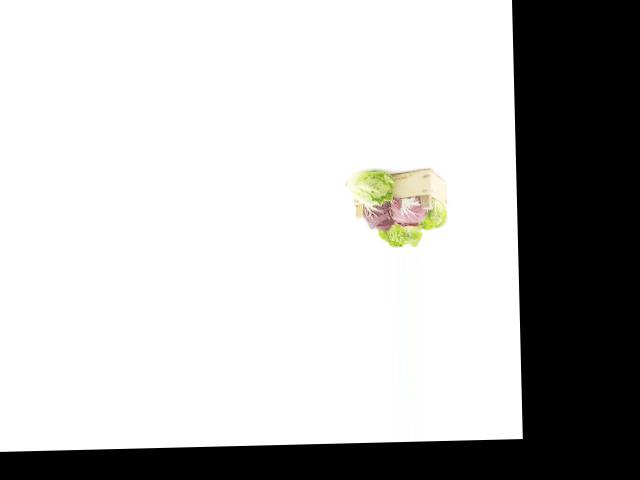lettuce: (377, 216, 422, 248)
